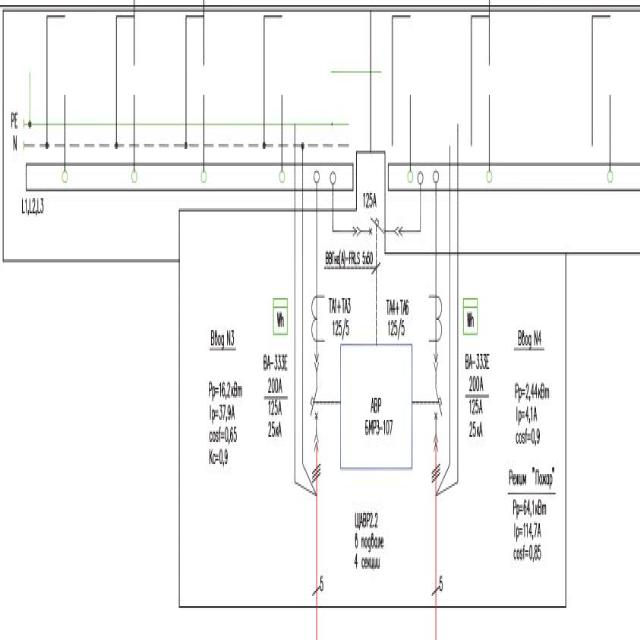-: (462, 348, 492, 444), (264, 350, 290, 442), (352, 508, 386, 572), (363, 390, 395, 438), (386, 293, 412, 340), (328, 288, 351, 338), (361, 188, 379, 213)
AVR: (340, 340, 414, 474)
Q: (430, 347, 443, 484), (308, 349, 321, 486), (351, 216, 404, 236)
TT: (310, 288, 326, 344), (428, 288, 443, 344)
WH: (272, 295, 289, 338), (462, 295, 478, 337)
